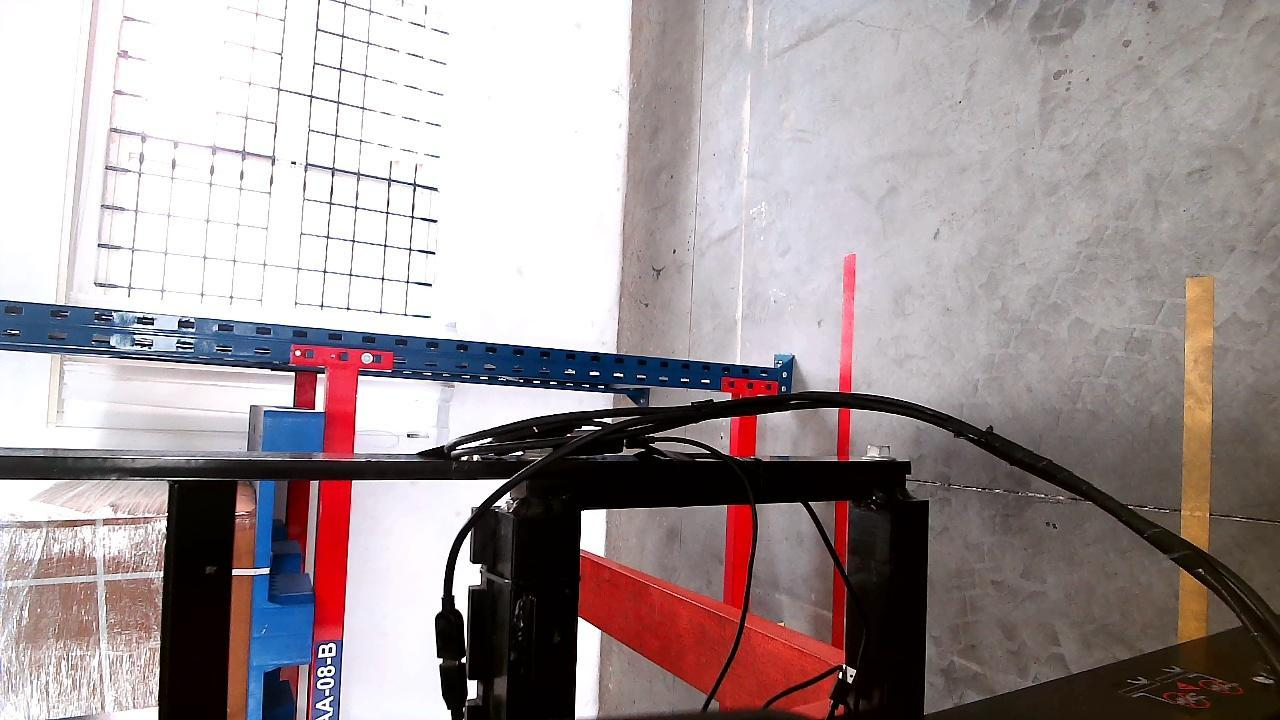red_line: (834, 252, 855, 645)
yellow_line: (1182, 269, 1217, 626)
